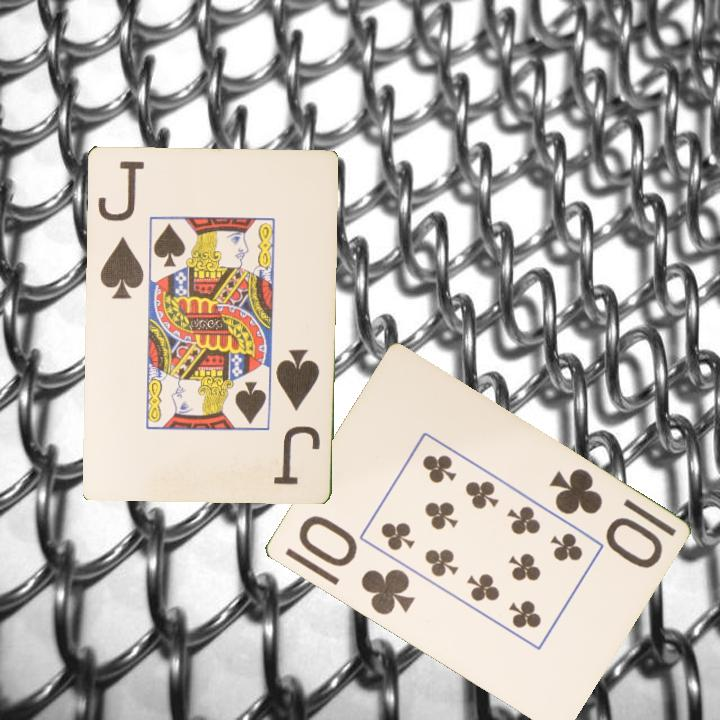10c: (294, 512, 418, 619), (544, 464, 666, 571)
Js: (94, 156, 147, 301), (270, 345, 323, 487)
